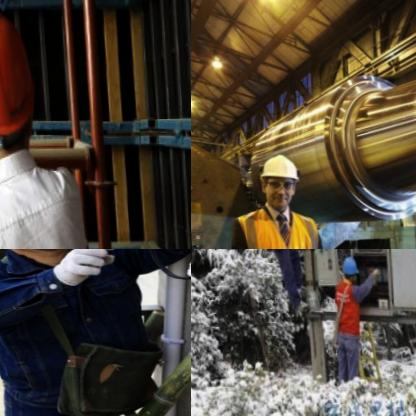helmet: (0, 0, 45, 181), (253, 151, 302, 213), (337, 252, 357, 284)
